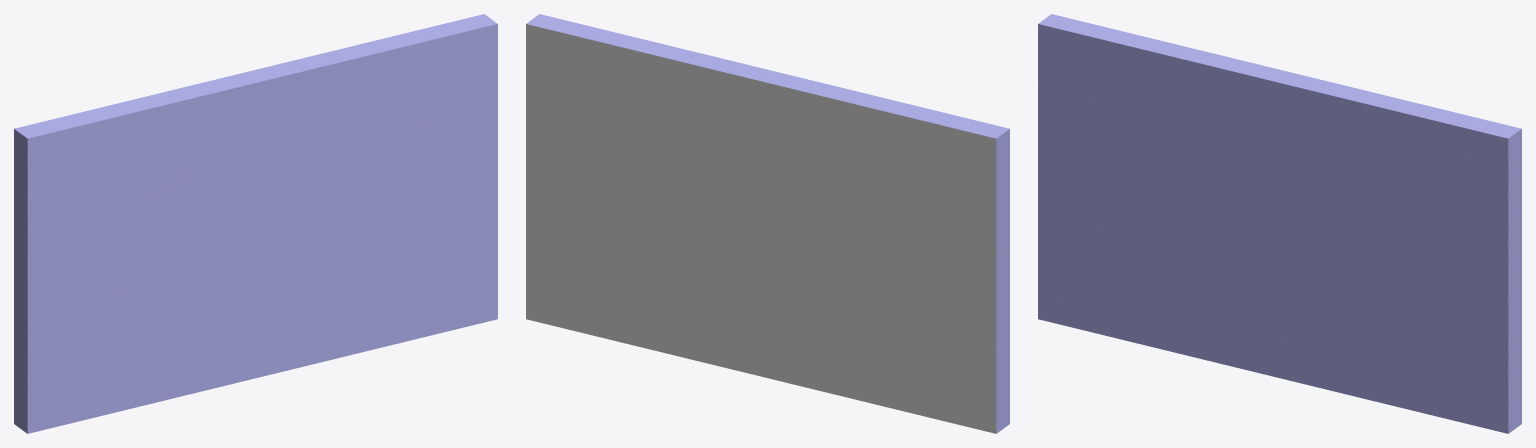
File: Wall_2_4x4.fbx
3 renders of one model, left to right at view 1: azimuth 30°, elevation 25°; view 2: azimuth 150°, elevation 25°; view 3: azimuth 330°, elevation 25°, orthographic.
Parts seen in each view (by area): view 1: Wall_2_4x4; view 2: Wall_2_4x4; view 3: Wall_2_4x4.
Part boxes in pixels (x1=…): Wall_2_4x4: x1=14, y1=14, x2=497, y2=433; Wall_2_4x4: x1=526, y1=14, x2=1009, y2=433; Wall_2_4x4: x1=1038, y1=14, x2=1521, y2=433.
Bounding box in the file's own units: 400 × 240 × 20.
